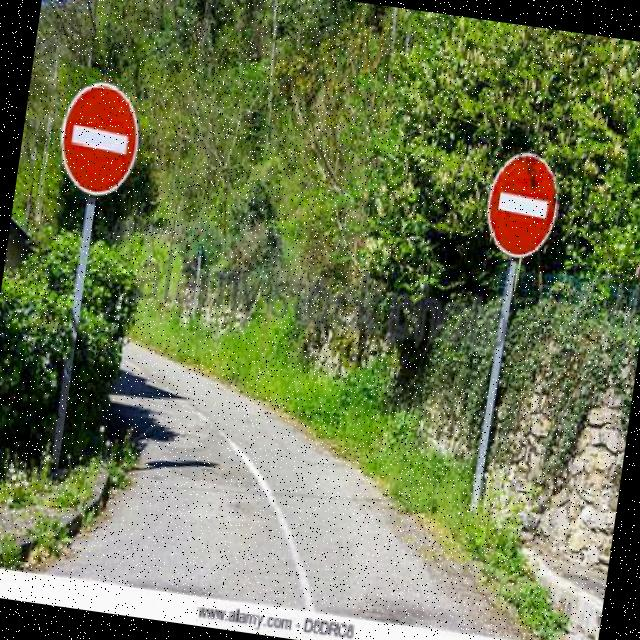Zakaz wjazdu: (54, 82, 142, 205), (482, 144, 562, 264)
